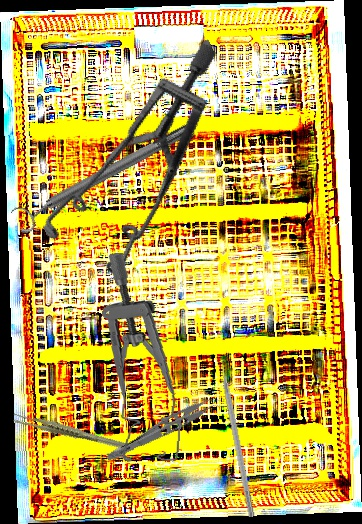Chopper: (216, 351, 264, 518)
Fixation Ring: (9, 117, 196, 236)
Speculum: (0, 39, 285, 300), (89, 252, 196, 466)
Tissue Forceps: (10, 393, 136, 473), (104, 389, 225, 472)
